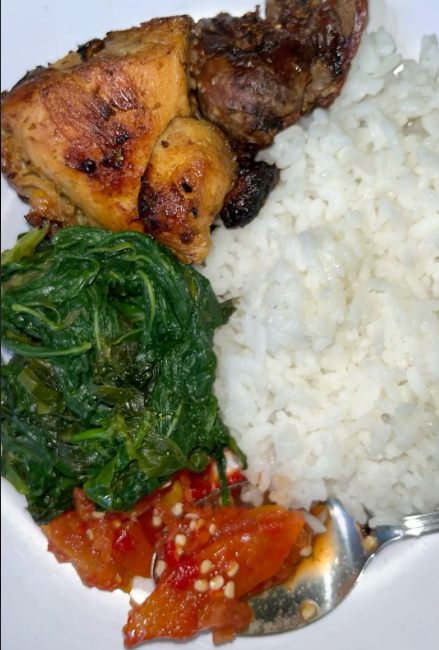buah_sayur_lainnya: (35, 257, 181, 461)
buah_sayur_vitA: (158, 497, 239, 616)
daging: (45, 72, 220, 209)
makanan_berpati: (295, 139, 428, 443)
